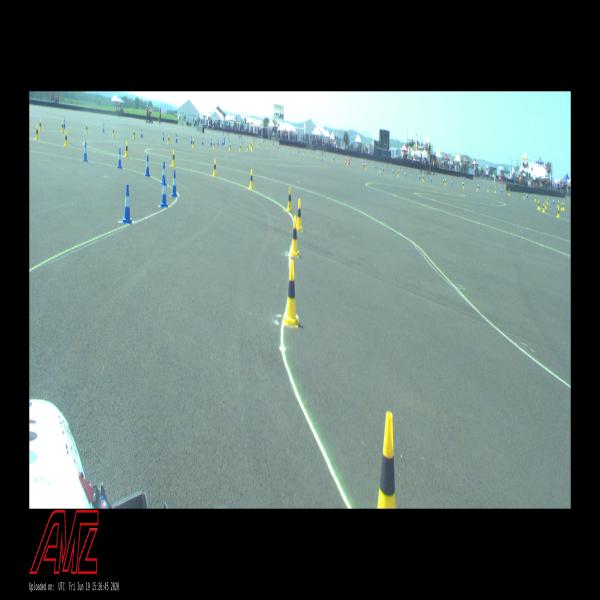blue_cone: (122, 185, 132, 223), (160, 179, 168, 206), (172, 170, 178, 196), (118, 149, 123, 168), (83, 142, 88, 161), (162, 162, 166, 184), (146, 155, 150, 176), (176, 134, 178, 143), (141, 129, 143, 138), (64, 119, 66, 128), (210, 138, 212, 146), (163, 132, 164, 141), (191, 136, 192, 144), (103, 124, 104, 132), (553, 198, 554, 205), (202, 138, 203, 144)
large_orange_cone: (344, 155, 346, 165), (362, 158, 364, 168), (348, 156, 350, 165), (365, 158, 366, 168)
yellow_cone: (378, 412, 396, 508), (283, 260, 299, 328), (289, 215, 299, 258), (296, 198, 303, 232), (286, 186, 292, 212), (248, 169, 254, 190), (213, 158, 217, 177), (172, 150, 176, 166), (64, 131, 68, 146), (35, 125, 39, 140), (125, 141, 128, 156), (557, 207, 560, 218), (537, 199, 540, 210), (112, 126, 115, 136), (61, 122, 64, 132), (542, 202, 545, 212), (85, 123, 88, 133), (167, 135, 170, 144), (213, 140, 215, 150), (39, 120, 41, 130), (561, 202, 563, 211), (192, 139, 194, 147), (133, 130, 135, 138), (558, 200, 560, 208), (547, 198, 549, 205), (545, 200, 546, 209), (563, 202, 564, 210)
